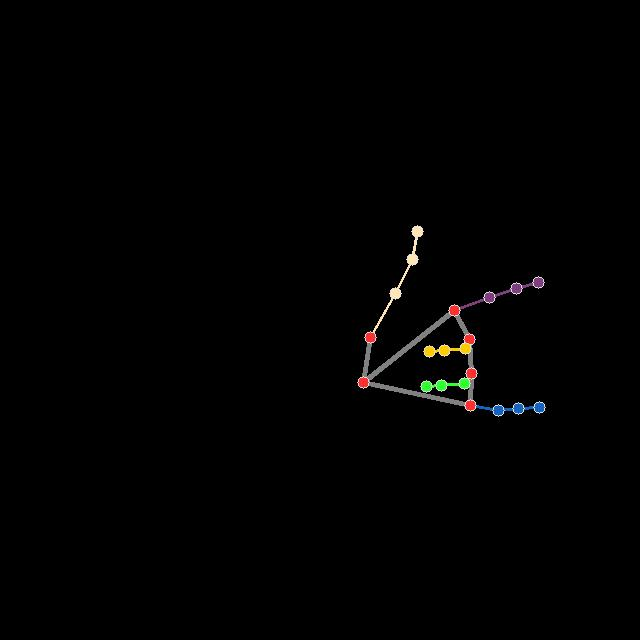spiderman: (352, 222, 551, 419)
